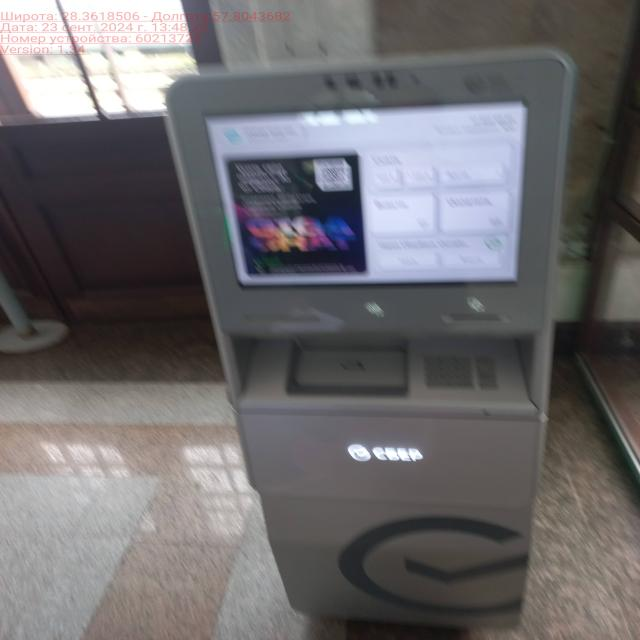bank: (155, 44, 576, 636)
